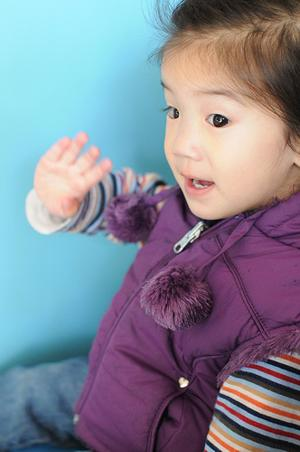person: (26, 1, 300, 452)
